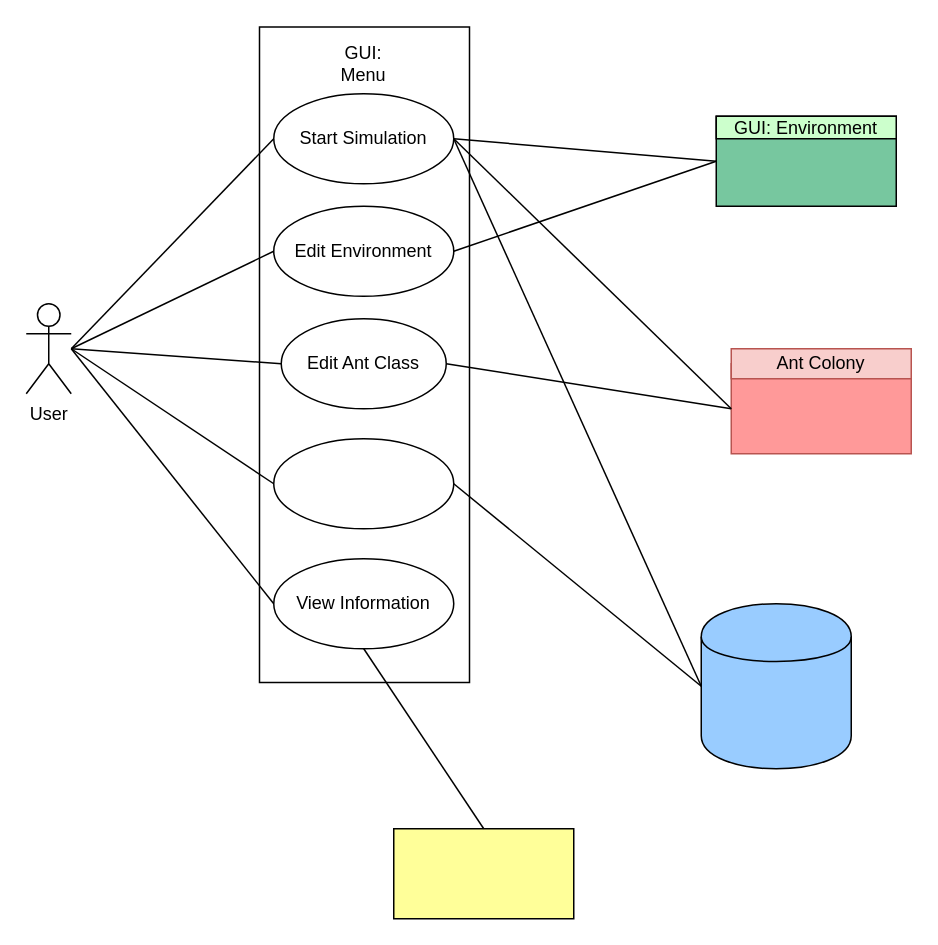
Image size: 938x945. Some labels were removed from this diagram. Each missing label, with the centre of its shape:
Information Page: point 483,873
Simulation Results: point 775,685
View Metrics: point 363,483
